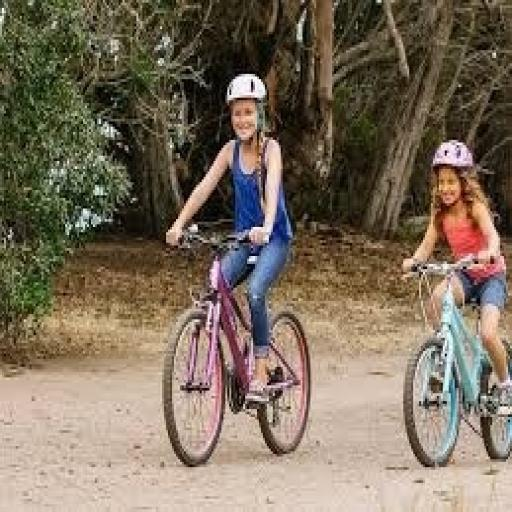cycling: (162, 71, 297, 409), (399, 137, 510, 420)
